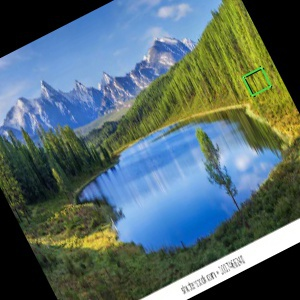square: (241, 66, 272, 97)
